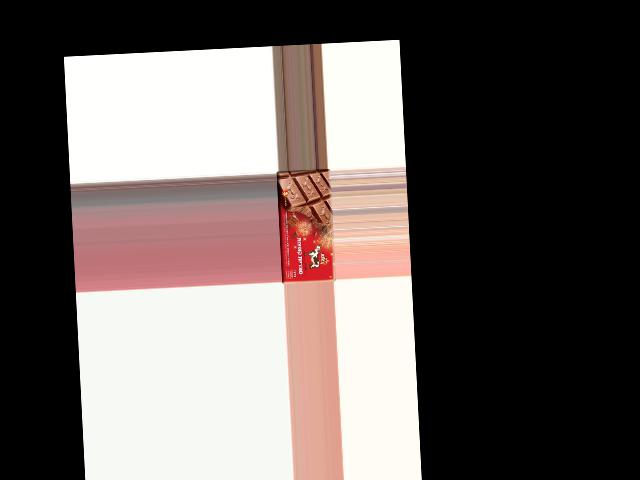chocolate: (276, 169, 335, 284)
